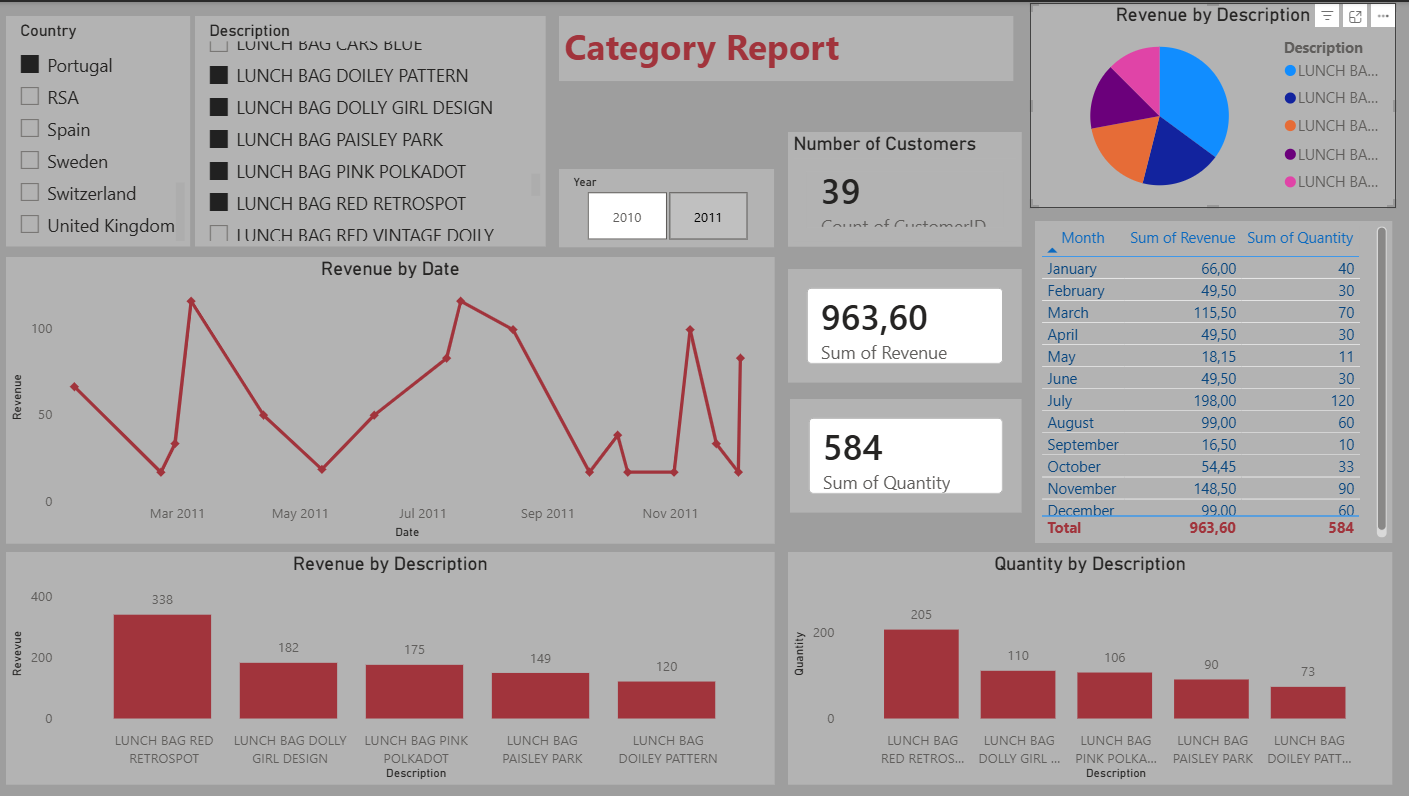

What the dashboard file says about the page in this screenshot:
{"tool":"powerbi","page":{"name":"Page 1","canvas":[1280,720],"ordinal":0},"visuals":[{"type":"lineChart","title":"Revenue by Date","fields":{"Y":["Sum(Sheet1.Revenue)"],"Category":["Sheet1.InvoiceDate"]},"box":[7,231,697,260],"z":1000},{"type":"slicer","fields":{"Values":["Sheet1.Country"]},"box":[7,13,167,209],"z":2000},{"type":"clusteredColumnChart","title":"Revenue by Description","fields":{"Category":["Sheet1.Description"],"Y":["Sum(Sheet1.Revenue)"]},"box":[7,499,697,211],"z":3000},{"type":"slicer","fields":{"Values":["Sheet1.Description"]},"box":[179,13,318,209],"z":4000},{"type":"slicer","fields":{"Values":["Sheet1.Year"]},"box":[509,151,195,71],"z":5000},{"type":"columnChart","title":"Quantity by Description","fields":{"Y":["Sum(Sheet1.Quantity)"],"Category":["Sheet1.Description"]},"box":[716,499,548,211],"z":6000},{"type":"pieChart","title":"Revenue by Description","fields":{"Category":["Sheet1.Description"],"Y":["Sum(Sheet1.Revenue)"]},"box":[936,1,332,186],"z":7000},{"type":"tableEx","fields":{"Values":["Sheet1.InvoiceDate.Variation.Date Hierarchy.Month","Sum(Sheet1.Revenue)","Sum(Sheet1.Quantity)"]},"box":[940,199,324,292],"z":8000},{"type":"textbox","box":[508.7,12.6,412.4,59.3],"z":9000},{"type":"cardVisual","fields":{"Data":["Sum(Sheet1.Quantity)"]},"box":[718,360,210,103],"z":10000},{"type":"cardVisual","fields":{"Data":["Sum(Sheet1.Revenue)"]},"box":[716,242,212,103],"z":11000},{"type":"cardVisual","title":"Number of Customers","fields":{"Data":["CountNonNull(Sheet1.CustomerID)"]},"box":[716,118,212,104],"z":12000}]}

Visuals, with their boxes in screenshot pixels (x1, y1, x2, y2), scaled from the page's 1280x720 canvas onto the 1409x796 screenshot:
"Revenue by Date" lineChart: {"x1": 8, "y1": 255, "x2": 775, "y2": 543}
slicer - Sheet1.Country: {"x1": 8, "y1": 14, "x2": 192, "y2": 245}
"Revenue by Description" clusteredColumnChart: {"x1": 8, "y1": 552, "x2": 775, "y2": 785}
slicer - Sheet1.Description: {"x1": 197, "y1": 14, "x2": 547, "y2": 245}
slicer - Sheet1.Year: {"x1": 560, "y1": 167, "x2": 775, "y2": 245}
"Quantity by Description" columnChart: {"x1": 788, "y1": 552, "x2": 1391, "y2": 785}
"Revenue by Description" pieChart: {"x1": 1030, "y1": 1, "x2": 1396, "y2": 207}
tableEx - Sheet1.InvoiceDate.Variation.Date Hierarchy.Month x Sum(Sheet1.Revenue): {"x1": 1035, "y1": 220, "x2": 1391, "y2": 543}
textbox: {"x1": 560, "y1": 14, "x2": 1014, "y2": 79}
cardVisual - Sum(Sheet1.Quantity): {"x1": 790, "y1": 398, "x2": 1022, "y2": 512}
cardVisual - Sum(Sheet1.Revenue): {"x1": 788, "y1": 268, "x2": 1022, "y2": 381}
"Number of Customers" cardVisual: {"x1": 788, "y1": 130, "x2": 1022, "y2": 245}
